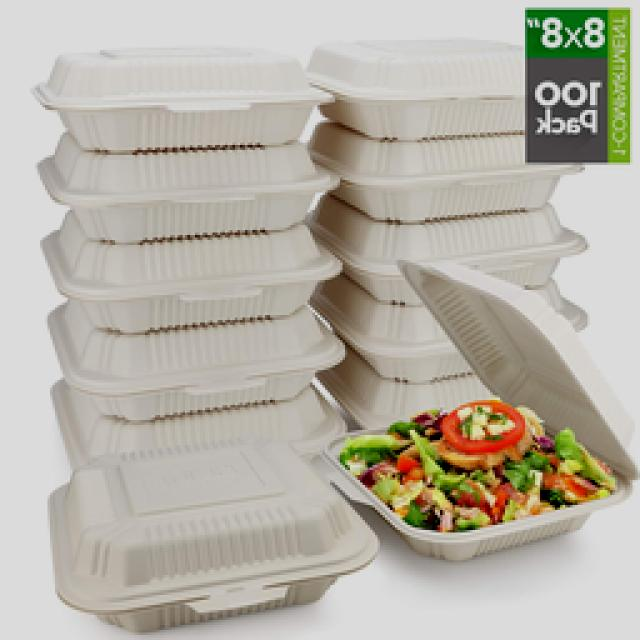inorganic: (402, 257, 636, 471), (53, 486, 369, 630), (49, 221, 337, 328), (304, 38, 530, 145), (310, 155, 581, 223)
organic: (364, 419, 569, 507)
